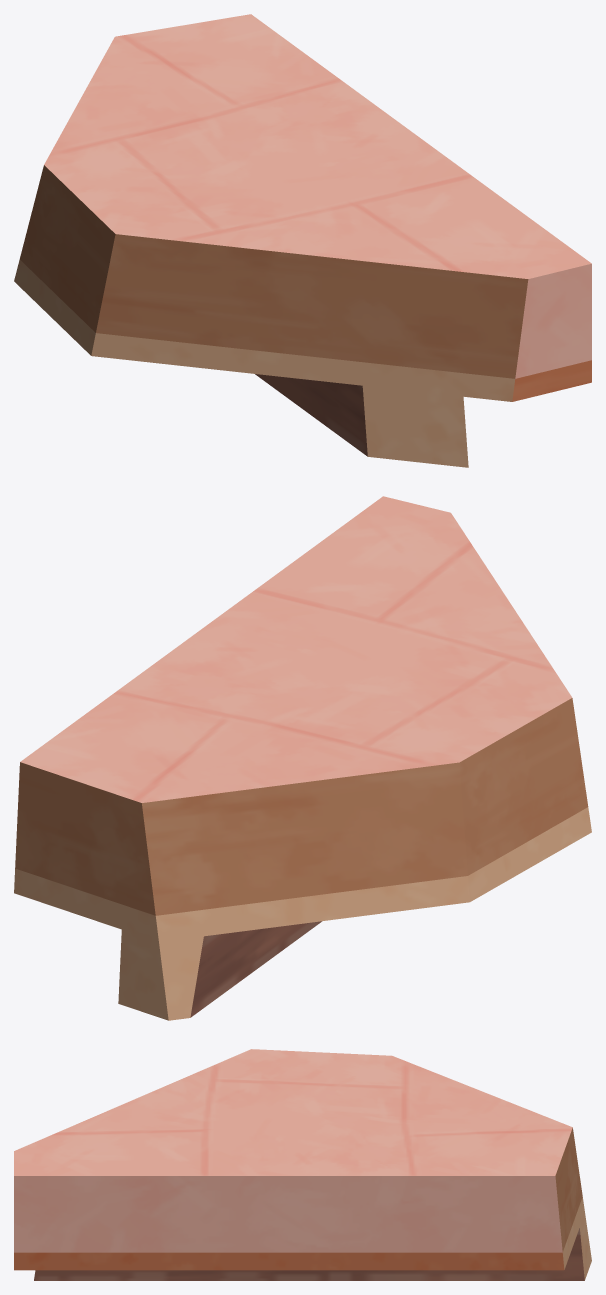
Rendered from floor_s04.fbx.
The picture shows the model from 3 angles, top to bottom: view 1: azimuth 30°, elevation 25°; view 2: azimuth 150°, elevation 25°; view 3: azimuth 270°, elevation 25°; orthographic projection. The views are drawn at different scales.
Parts seen in each view (by area): view 1: floor_s04; view 2: floor_s04; view 3: floor_s04.
Boxes of the visible parts, bbox=[...] form: floor_s04: bbox=[14, 14, 591, 467]; floor_s04: bbox=[14, 496, 591, 1020]; floor_s04: bbox=[14, 1049, 591, 1280].
Bounding box in the file's own units: 3.25 × 1.66 × 5.88.
